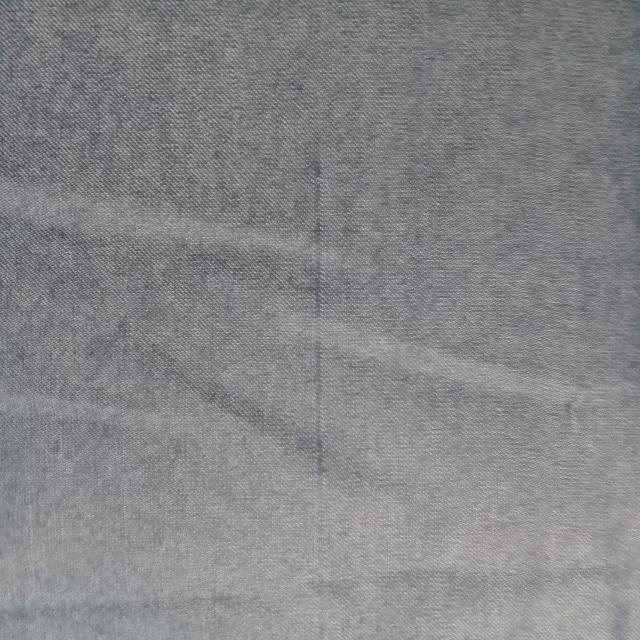Line: (309, 152, 328, 640)
